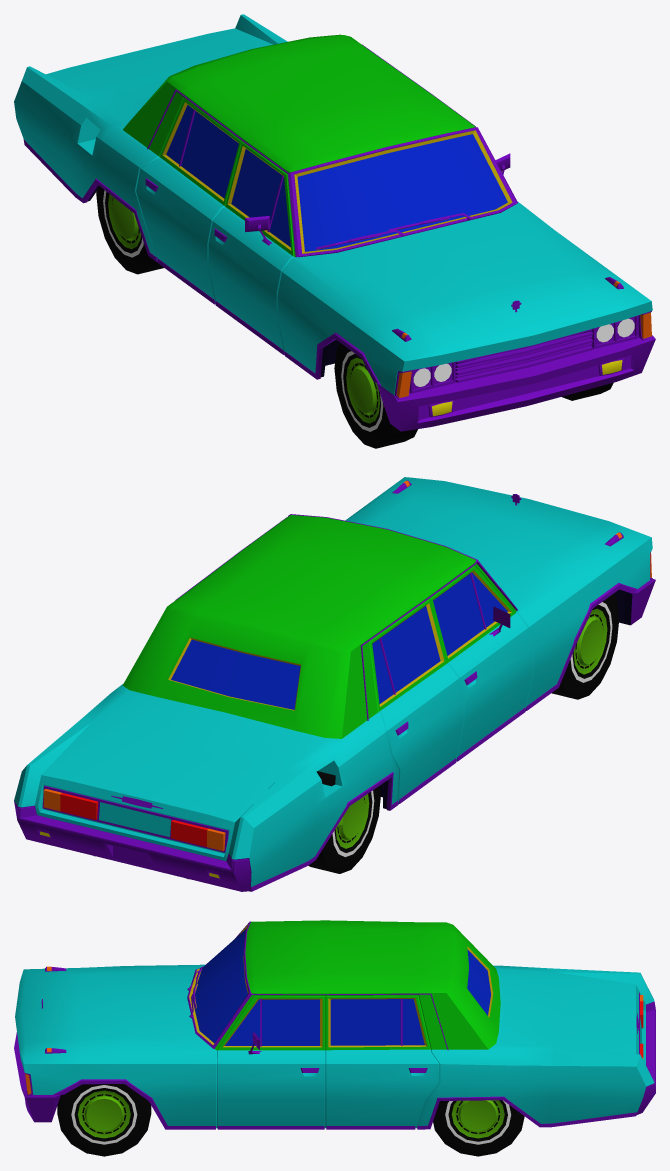
The model's file is Zil1.fbx.
The picture shows the model from 3 angles, top to bottom: view 1: azimuth 30°, elevation 25°; view 2: azimuth 150°, elevation 25°; view 3: azimuth 270°, elevation 25°; orthographic projection. The views are drawn at different scales.
Parts seen in each view (by area): view 1: Body, Wheel_FR, Wheel_RR; view 2: Body, Wheel_FR, Wheel_RR; view 3: Body, Wheel_FL, Wheel_RL.
Boxes of the visible parts, x1,y1,x2,y2 form: Body: (14, 14, 655, 431); Wheel_FR: (334, 343, 417, 448); Wheel_RR: (96, 186, 163, 274); Body: (14, 477, 655, 891); Wheel_FR: (551, 594, 619, 699); Wheel_RR: (308, 771, 380, 873); Body: (14, 920, 655, 1129); Wheel_FL: (57, 1084, 151, 1156); Wheel_RL: (433, 1100, 524, 1156).
Size of the model in its own units: 210 by 159 by 561.
